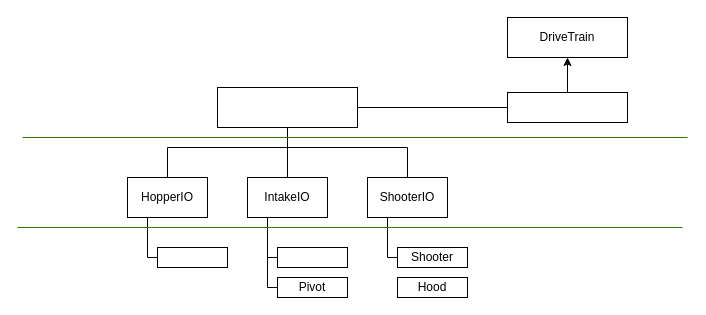
The diagram is 706 pixels wide and 315 high, and some of its shapes have lost their labels. Each missing label, with the box of its shape:
AutoAim State: (506, 92, 628, 122)
Intake: (276, 246, 348, 268)
Sequencer: (156, 246, 228, 268)
superstructure: (216, 86, 358, 128)
